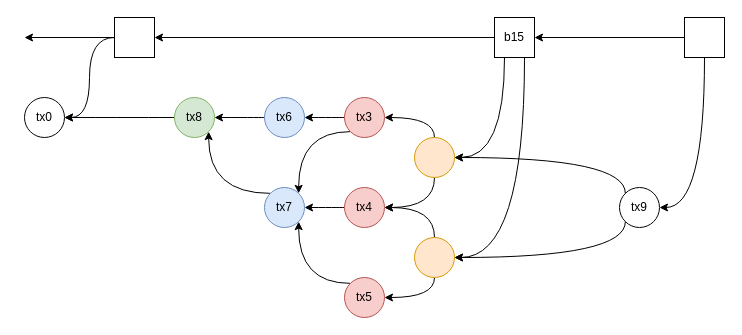
The diagram is 742 pixels wide and 335 high, and some of its shapes have lost their labels. Here are the shapes that lost their labels. From the top down, the centre of each, then its label:
(134,37): b14
(704,37): b16
(434,157): tx1
(434,257): tx2
